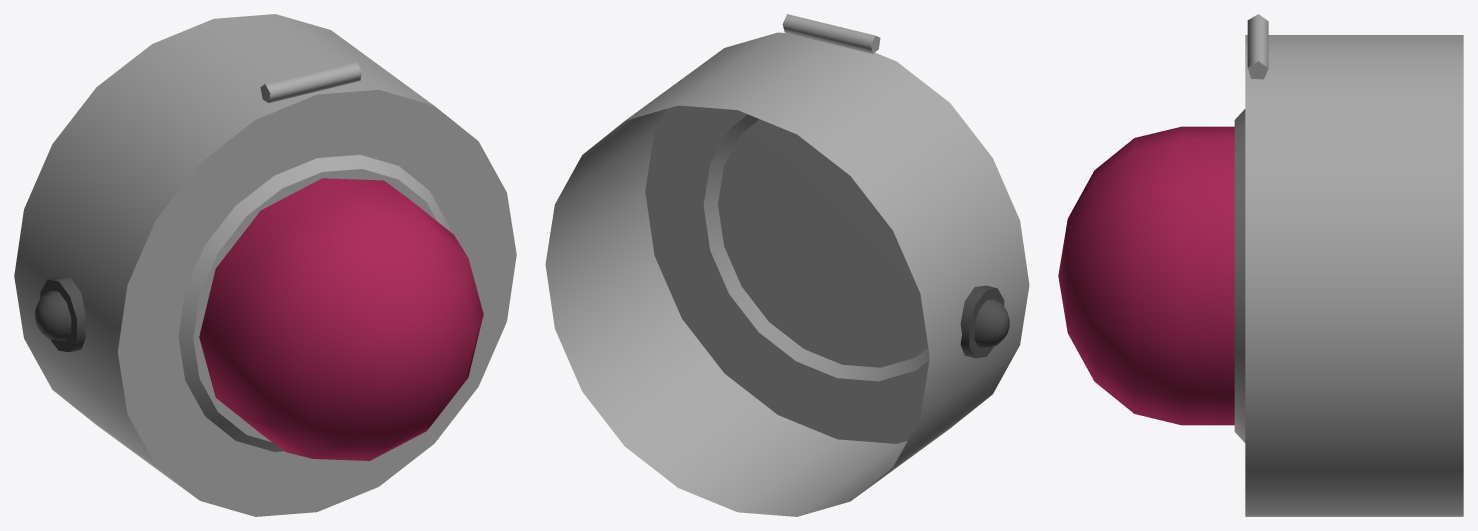
Rendered from SirenLamp_01.fbx.
3 views of the same model, side by side, from view 1: azimuth 30°, elevation 25°; view 2: azimuth 150°, elevation 25°; view 3: azimuth 270°, elevation 25° (orthographic). The views are drawn at different scales.
Visible parts, largest first — view 1: SirenLamp_01; view 2: SirenLamp_01; view 3: SirenLamp_01.
Part boxes in pixels (bbox=[...]): SirenLamp_01: bbox=[14, 14, 516, 516]; SirenLamp_01: bbox=[545, 14, 1029, 516]; SirenLamp_01: bbox=[1058, 14, 1463, 516].
Size of the model in its own units: 0.3568 by 0.3478 by 0.2787.
